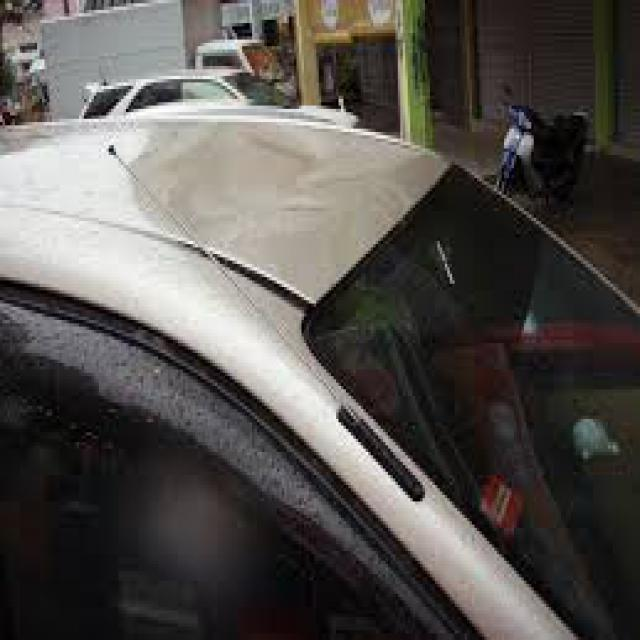roof-dent: (0, 79, 418, 320)
